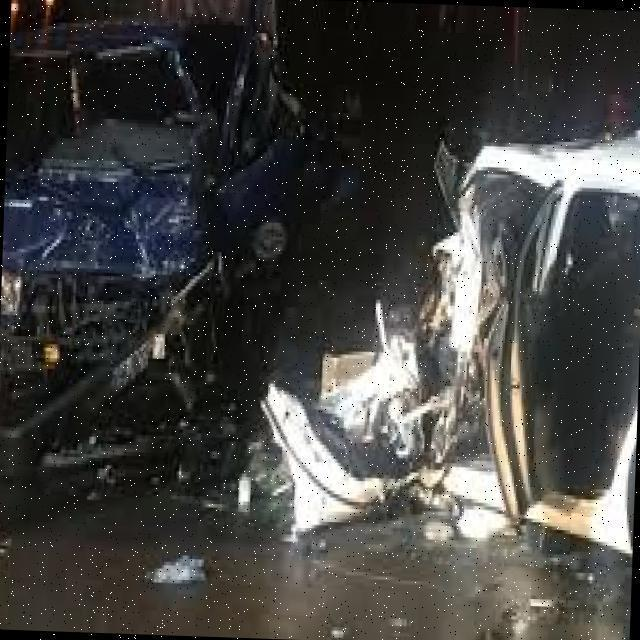accident: (258, 96, 640, 565), (0, 1, 256, 431)
